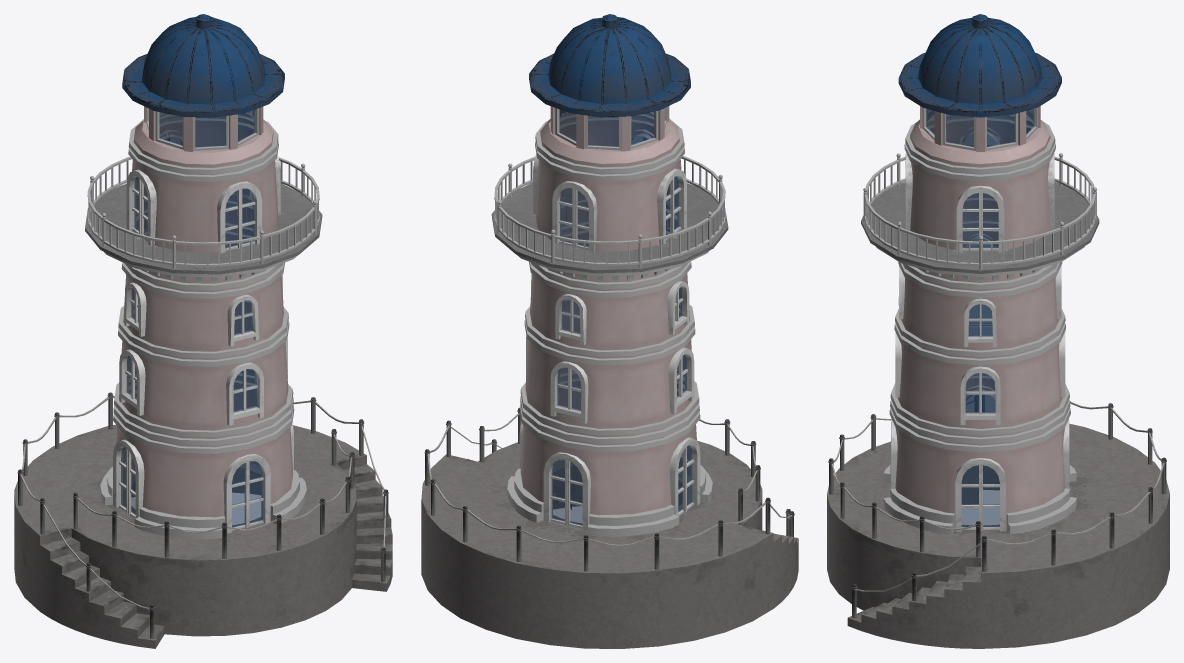
File: faro_puerto.glb
3 renders of one model, left to right at view 1: azimuth 30°, elevation 25°; view 2: azimuth 150°, elevation 25°; view 3: azimuth 270°, elevation 25°, orthographic.
Visible parts, largest first — view 1: house_LOW_aiWireframe2_0, stair_LOW_aiWireframe2_0, polySurface159_aiWireframe2_0, polySurface135_aiWireframe1_0, polySurface178_aiWireframe2_0, polySurface1_aiWireframe2_0; view 2: house_LOW_aiWireframe2_0, stair_LOW_aiWireframe2_0, polySurface159_aiWireframe2_0, polySurface135_aiWireframe1_0, polySurface1_aiWireframe2_0, polySurface178_aiWireframe2_0; view 3: house_LOW_aiWireframe2_0, stair_LOW_aiWireframe2_0, polySurface159_aiWireframe2_0, polySurface135_aiWireframe1_0, polySurface1_aiWireframe2_0, polySurface178_aiWireframe2_0.
Part boxes in pixels (<box>): house_LOW_aiWireframe2_0: <box>85,14,322,539</box>; stair_LOW_aiWireframe2_0: <box>14,424,392,648</box>; polySurface159_aiWireframe2_0: <box>113,107,293,533</box>; polySurface135_aiWireframe1_0: <box>121,110,262,527</box>; polySurface178_aiWireframe2_0: <box>17,392,388,638</box>; polySurface1_aiWireframe2_0: <box>87,156,319,268</box>; house_LOW_aiWireframe2_0: <box>491,14,728,536</box>; stair_LOW_aiWireframe2_0: <box>421,440,798,648</box>; polySurface159_aiWireframe2_0: <box>519,107,700,531</box>; polySurface135_aiWireframe1_0: <box>551,109,692,525</box>; polySurface1_aiWireframe2_0: <box>494,156,725,267</box>; polySurface178_aiWireframe2_0: <box>424,408,794,571</box>; house_LOW_aiWireframe2_0: <box>861,14,1099,534</box>; stair_LOW_aiWireframe2_0: <box>827,423,1169,648</box>; polySurface159_aiWireframe2_0: <box>891,107,1069,531</box>; polySurface135_aiWireframe1_0: <box>926,108,1033,527</box>; polySurface1_aiWireframe2_0: <box>863,145,1097,269</box>; polySurface178_aiWireframe2_0: <box>828,395,1166,618</box>.
Size of the model in its own units: 9.23 by 15 by 8.4.
2 materials, 2 textured.
